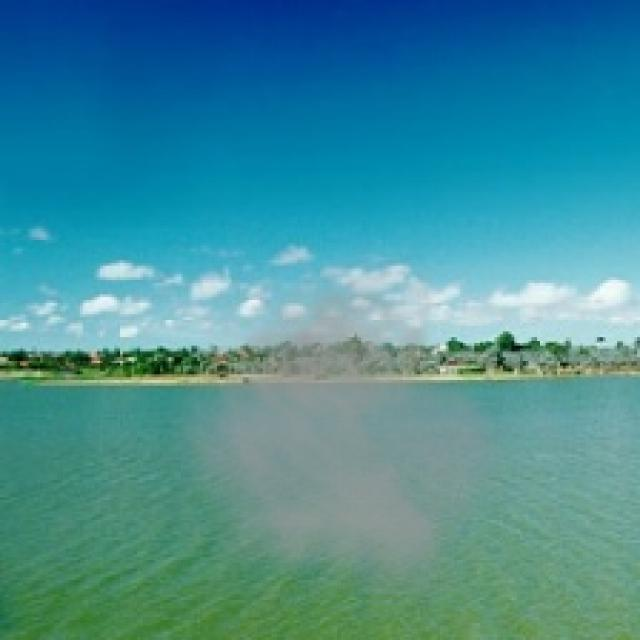smoke: (160, 249, 526, 594)
